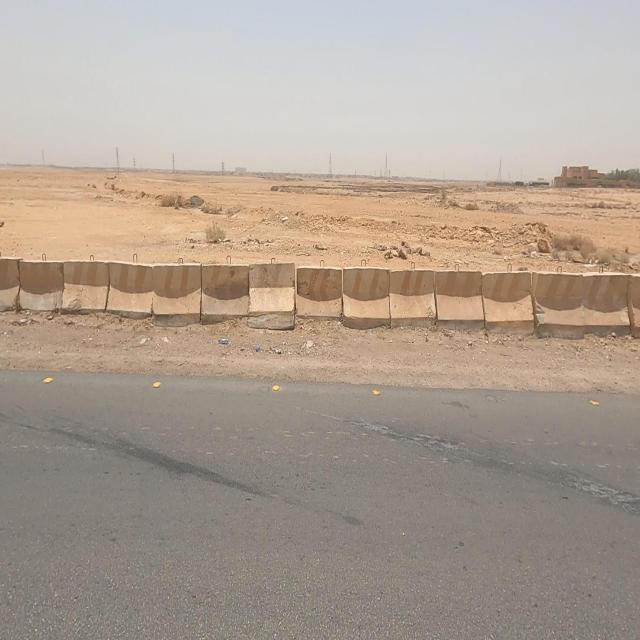debris: (198, 313, 252, 377), (236, 324, 275, 376)
